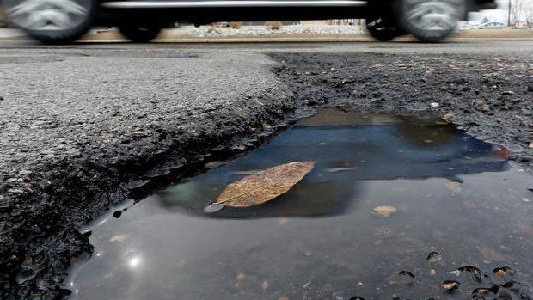pothole: (1, 48, 532, 299)
